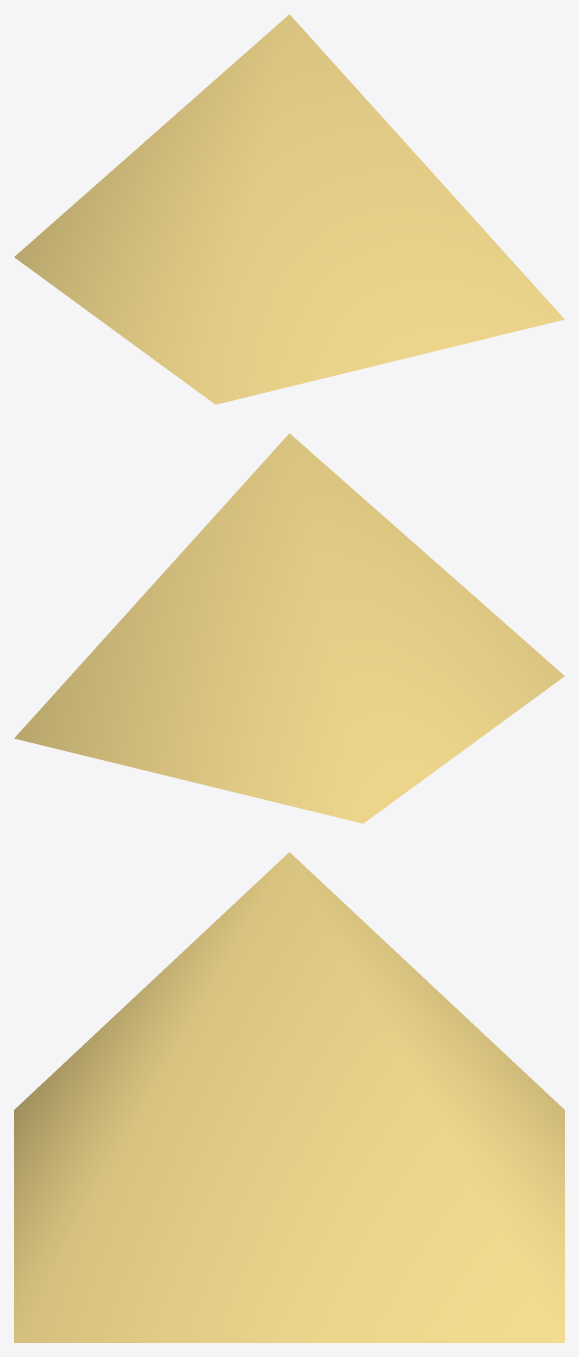
3 renders of one model, top to bottom at view 1: azimuth 30°, elevation 25°; view 2: azimuth 150°, elevation 25°; view 3: azimuth 270°, elevation 25°, orthographic. The views are drawn at different scales.
Parts seen in each view (by area): view 1: RWX_Mesh; view 2: RWX_Mesh; view 3: RWX_Mesh.
Boxes of the visible parts, <box> form: RWX_Mesh: <box>14,14,564,404</box>; RWX_Mesh: <box>14,433,564,823</box>; RWX_Mesh: <box>14,852,564,1342</box>.
Bounding box in the file's own units: 2 × 1.5 × 2.
